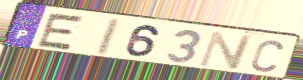3: (166, 28, 205, 64)
6: (124, 24, 162, 59)
C: (249, 38, 285, 73)
E: (35, 12, 88, 52)
I: (92, 17, 123, 57)
N: (197, 30, 256, 70)
